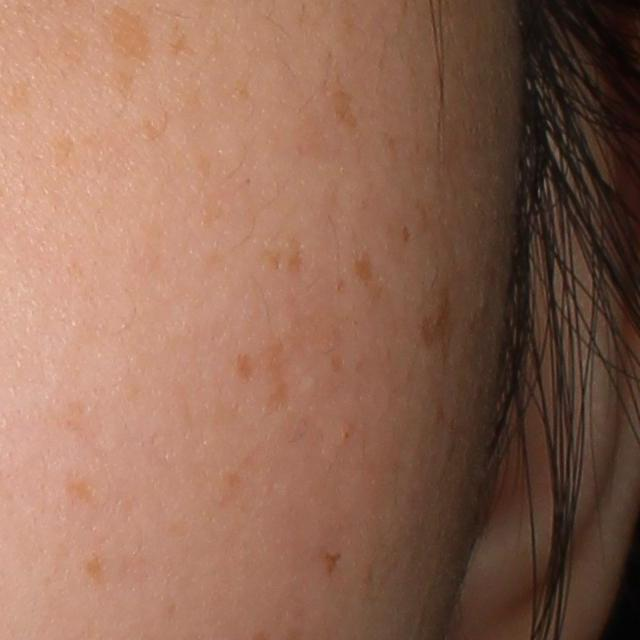melasma: (231, 329, 301, 416), (416, 281, 465, 373), (108, 0, 150, 71), (258, 237, 312, 279), (60, 472, 105, 510), (330, 86, 368, 130), (350, 244, 378, 288), (83, 551, 110, 587), (321, 548, 343, 579)
